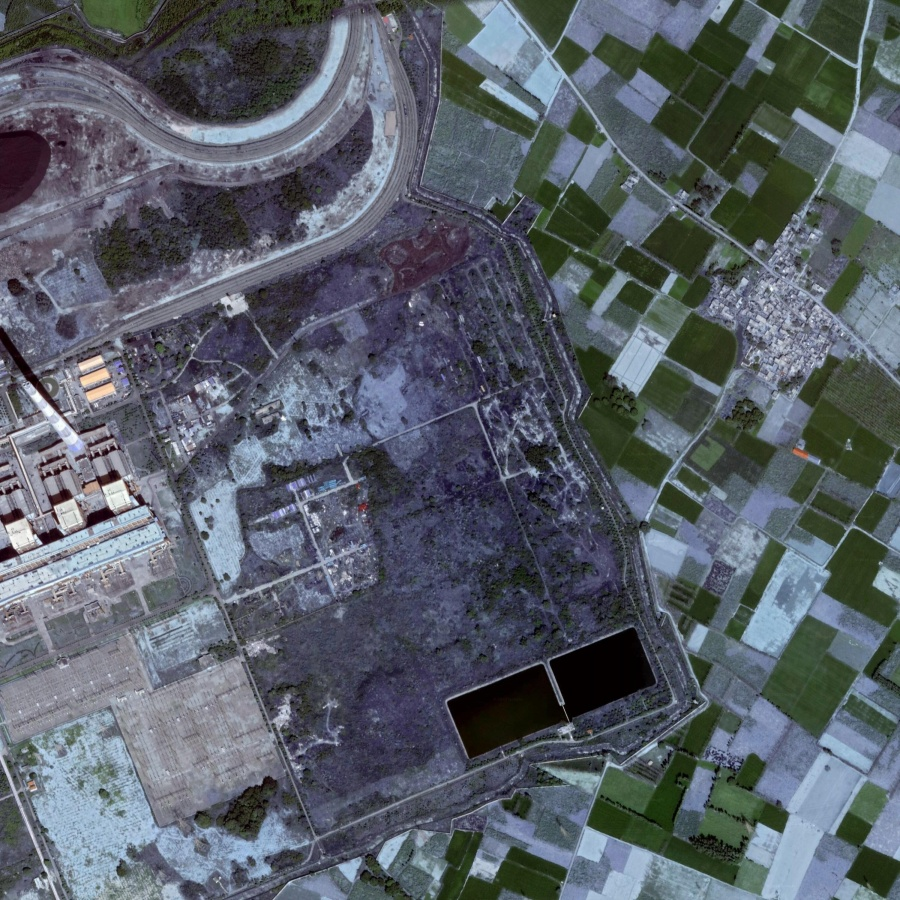PowerPlant: (426, 607, 667, 793)
